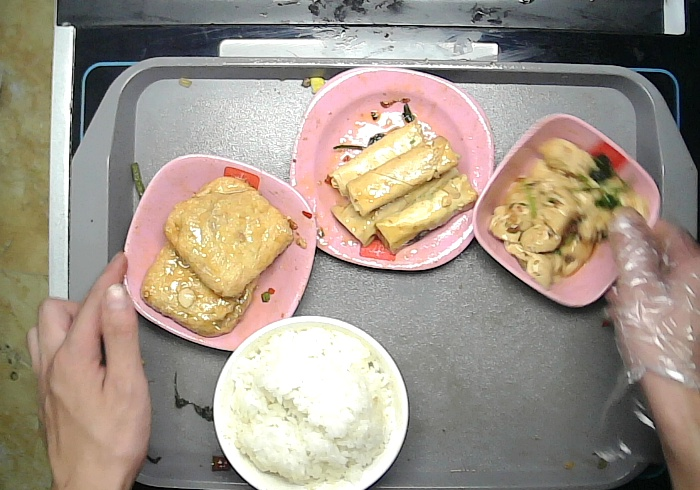SHKJ-Fan_Wan: (208, 313, 413, 490)
SHKJ-Fen_Se_Cai_Die: (116, 150, 320, 357)
SHKJ-Fen_Se_Si_Fang_Cai_Die: (287, 62, 497, 275)
SHKJ-Fen_Se_Xiao_Fang_Die: (470, 111, 663, 312)
